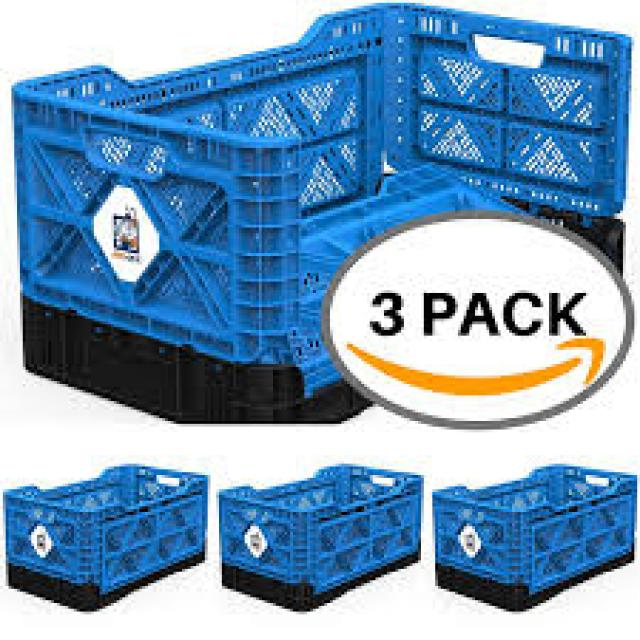basket: (2, 462, 214, 615), (218, 462, 430, 615)
